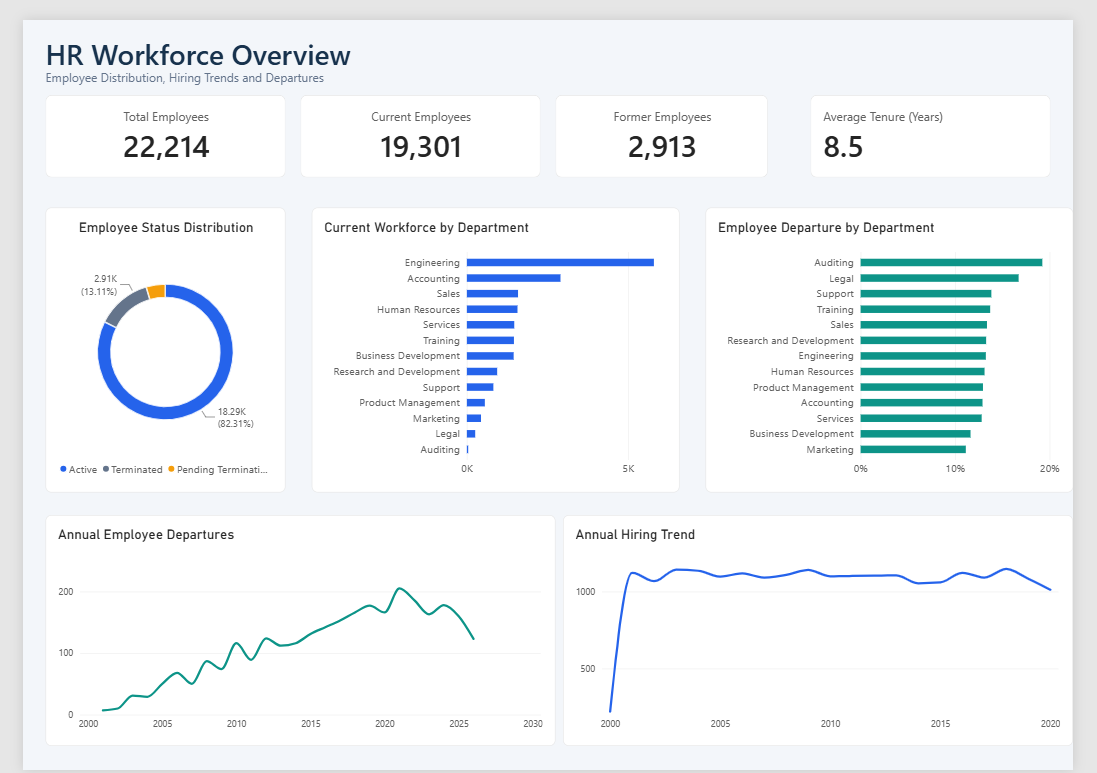

What the dashboard file says about the page in this screenshot:
{"tool":"powerbi","page":{"name":"HR Workforce Overview","canvas":[1400,1000],"ordinal":0},"visuals":[{"type":"cardVisual","fields":{"Data":["Cleaned HR Data.Total Employees"]},"box":[30,100,320,110],"z":0},{"type":"cardVisual","fields":{"Data":["Cleaned HR Data.CurrentEmployees"]},"box":[370,100,320,110],"z":1000},{"type":"cardVisual","fields":{"Data":["Cleaned HR Data.Former Employees"]},"box":[710,100,283,110],"z":2000},{"type":"cardVisual","fields":{"Data":["Cleaned HR Data.Average Tenure"]},"box":[1050,100,320,110],"z":3000},{"type":"donutChart","title":"Employee Status Distribution","fields":{"Category":["Cleaned HR Data.Employee Status"],"Y":["CountNonNull(Cleaned HR Data.ID)"]},"box":[30,250,320,380],"z":4000},{"type":"clusteredBarChart","title":"Current Workforce by Department","fields":{"Category":["Cleaned HR Data.Department"],"Y":["Cleaned HR Data.Current Employees"]},"box":[385,250,490,380],"z":5000},{"type":"clusteredBarChart","title":"Employee Departure  by Department","fields":{"Category":["Cleaned HR Data.Department"],"Y":["Cleaned HR Data.Departure Percentage"]},"box":[910,250,490,380],"z":6000},{"type":"lineChart","title":"Annual Employee Departures","fields":{"Category":["Years.Value"],"Y":["Years.Employees Terminated"]},"box":[30,660,680,308],"z":7000},{"type":"lineChart","title":"Annual Hiring Trend","fields":{"Category":["Years.Value"],"Y":["Years.Employees Hired"]},"box":[720,660,680,308],"z":8000},{"type":"textbox","box":[30,65,1100,65],"z":9000},{"type":"textbox","box":[30,20,430,56],"z":10000}]}

Visuals, with their boxes in screenshot pixels (x1, y1, x2, y2), scaled from the page's 1400x1000 canvas onto the 1097x773 screenshot:
cardVisual - Cleaned HR Data.Total Employees: [24,77,274,162]
cardVisual - Cleaned HR Data.CurrentEmployees: [290,77,541,162]
cardVisual - Cleaned HR Data.Former Employees: [556,77,778,162]
cardVisual - Cleaned HR Data.Average Tenure: [823,77,1073,162]
"Employee Status Distribution" donutChart: [24,193,274,487]
"Current Workforce by Department" clusteredBarChart: [302,193,686,487]
"Employee Departure  by Department" clusteredBarChart: [713,193,1096,487]
"Annual Employee Departures" lineChart: [24,510,556,748]
"Annual Hiring Trend" lineChart: [564,510,1096,748]
textbox: [24,50,885,100]
textbox: [24,15,360,59]
